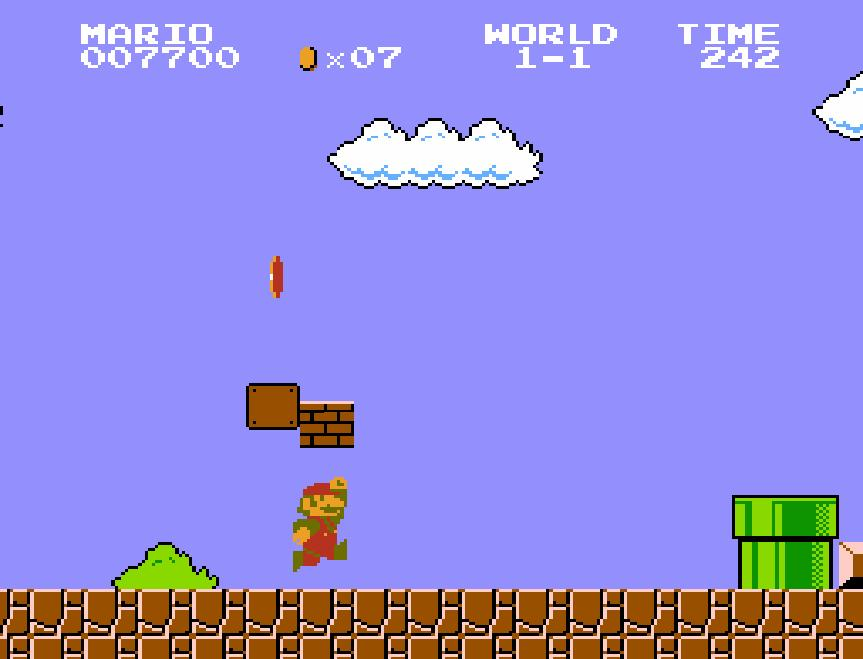big_mario: (291, 476, 349, 574)
